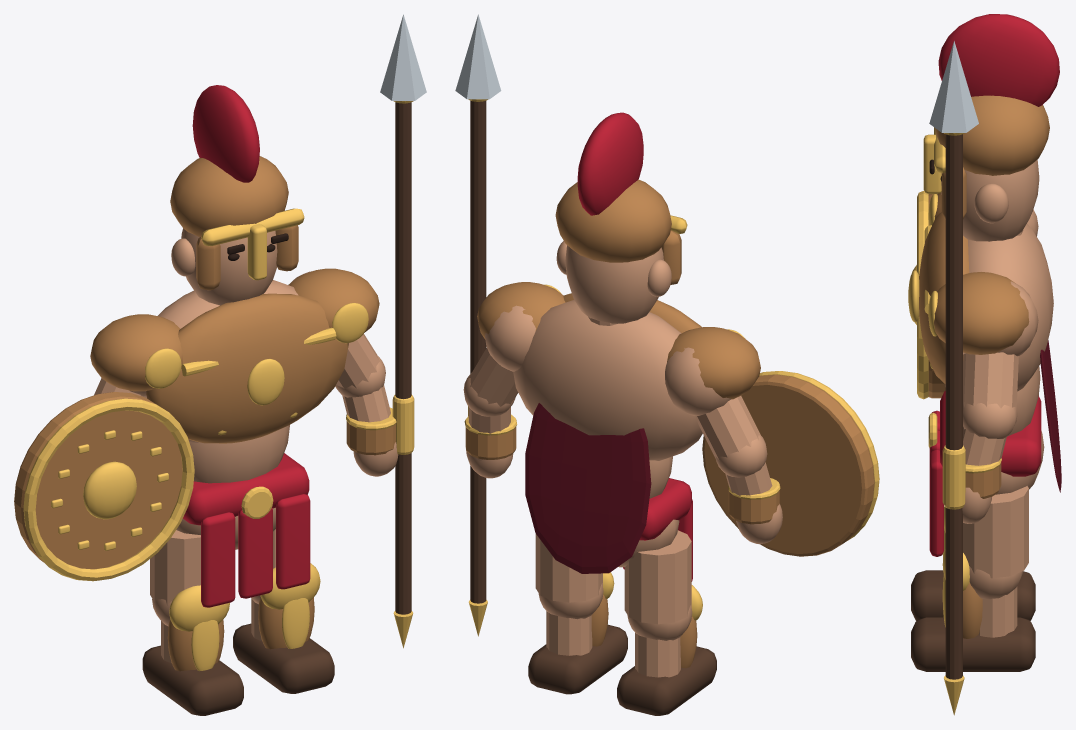
Rendered from AchilliesModel.fbx.
3 renders of one model, left to right at view 1: azimuth 30°, elevation 25°; view 2: azimuth 150°, elevation 25°; view 3: azimuth 270°, elevation 25°, orthographic. The views are drawn at different scales.
Parts seen in each view (by area): view 1: Bronze Chestplate, Achilles Hoplon Shield, Achilles Spear Shaft, Shield Gold Rim, Bronze Helmet Dome, Red Horsehair Crest, Bronze Shoulder Guard, Leather Sandal.001, Leather Sandal, Abdomen, Crimson Waist Sash, Front Tunic Panel (+30 smaller); view 2: Heroic Chest, Achilles Hoplon Shield, Flowing Crimson Cape, Bronze Helmet Dome, Achilles Spear Shaft, Achilles Head, Upper Leg, Red Horsehair Crest, Bronze Shoulder Guard, Leather Sandal.001, Leather Sandal, Bronze Shoulder Guard.001 (+25 smaller); view 3: Achilles Spear Shaft, Red Horsehair Crest, Bronze Helmet Dome, Heroic Chest, Bronze Shoulder Guard.001, Leather Sandal.001, Upper Leg.001, Achilles Head, Bronze Chestplate, Upper Arm.001, Spear Blade, Crimson Waist Sash (+26 smaller).
Boxes of the visible parts, x1=… form: Bronze Chestplate: x1=146, y1=293, x2=348, y2=443; Achilles Hoplon Shield: x1=14, y1=392, x2=182, y2=569; Achilles Spear Shaft: x1=395, y1=102, x2=411, y2=614; Shield Gold Rim: x1=23, y1=398, x2=194, y2=581; Bronze Helmet Dome: x1=170, y1=156, x2=288, y2=236; Red Horsehair Crest: x1=192, y1=85, x2=259, y2=182; Bronze Shoulder Guard: x1=90, y1=314, x2=182, y2=391; Leather Sandal.001: x1=233, y1=623, x2=334, y2=693; Leather Sandal: x1=142, y1=645, x2=243, y2=715; Abdomen: x1=189, y1=425, x2=289, y2=483; Crimson Waist Sash: x1=183, y1=453, x2=309, y2=525; Front Tunic Panel: x1=201, y1=512, x2=235, y2=607; Heroic Chest: x1=513, y1=300, x2=702, y2=460; Achilles Hoplon Shield: x1=702, y1=374, x2=874, y2=556; Flowing Crimson Cape: x1=525, y1=403, x2=651, y2=573; Bronze Helmet Dome: x1=555, y1=179, x2=671, y2=262; Achilles Spear Shaft: x1=470, y1=100, x2=486, y2=603; Achilles Head: x1=565, y1=245, x2=663, y2=323; Upper Leg: x1=624, y1=530, x2=691, y2=624; Red Horsehair Crest: x1=577, y1=112, x2=643, y2=215; Bronze Shoulder Guard: x1=667, y1=327, x2=760, y2=399; Leather Sandal.001: x1=528, y1=624, x2=627, y2=694; Leather Sandal: x1=617, y1=646, x2=716, y2=715; Bronze Shoulder Guard.001: x1=477, y1=282, x2=565, y2=339; Achilles Spear Shaft: x1=945, y1=134, x2=962, y2=679; Red Horsehair Crest: x1=938, y1=14, x2=1059, y2=106; Bronze Helmet Dome: x1=935, y1=95, x2=1049, y2=175; Heroic Chest: x1=968, y1=223, x2=1053, y2=391; Bronze Shoulder Guard.001: x1=934, y1=272, x2=1029, y2=354; Leather Sandal.001: x1=911, y1=617, x2=1035, y2=671; Upper Leg.001: x1=963, y1=486, x2=1028, y2=578; Achilles Head: x1=941, y1=160, x2=1039, y2=241; Bronze Chestplate: x1=919, y1=212, x2=969, y2=383; Upper Arm.001: x1=963, y1=352, x2=1018, y2=409; Spear Blade: x1=929, y1=41, x2=978, y2=132; Crimson Waist Sash: x1=940, y1=391, x2=1041, y2=476.
Size of what is drawn, in the model's own units: 264 by 392 by 80.13.
